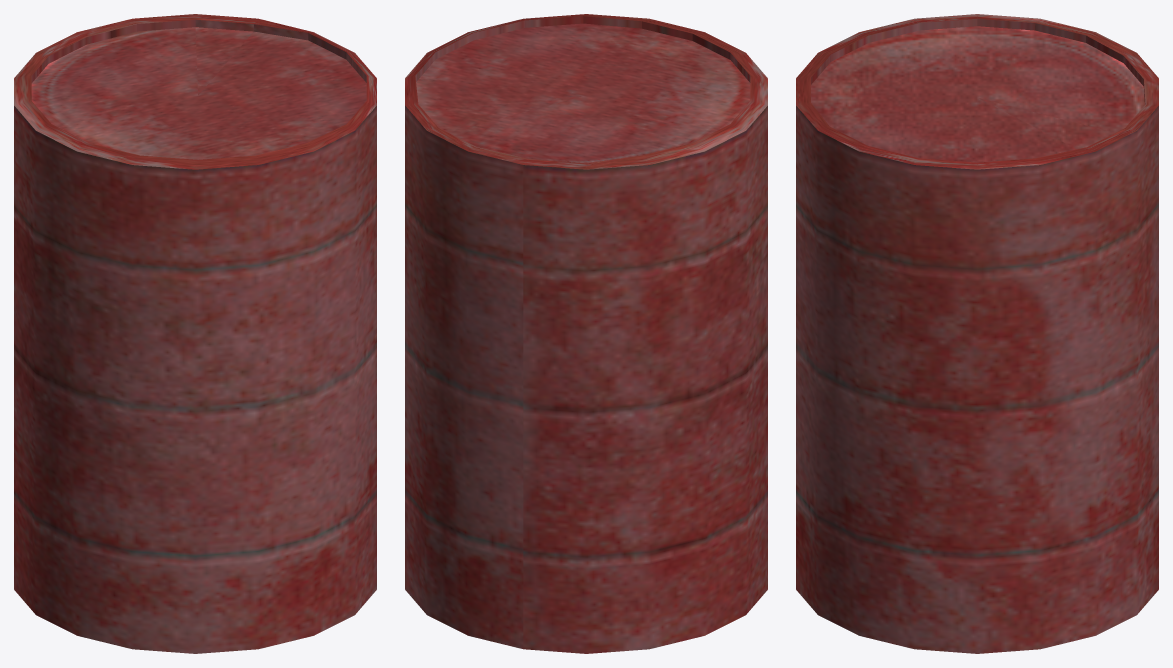
Rendered from barrel2.FBX.
The picture shows the model from 3 angles, left to right: view 1: azimuth 30°, elevation 25°; view 2: azimuth 150°, elevation 25°; view 3: azimuth 270°, elevation 25°; orthographic projection.
Parts seen in each view (by area): view 1: Cylinder001; view 2: Cylinder001; view 3: Cylinder001.
Part boxes in pixels (x1,y1,x2,y2): Cylinder001: [14, 14, 376, 653]; Cylinder001: [405, 14, 767, 653]; Cylinder001: [796, 14, 1158, 653].
Bounding box in the file's own units: 32.64 × 47.6 × 32.14.
